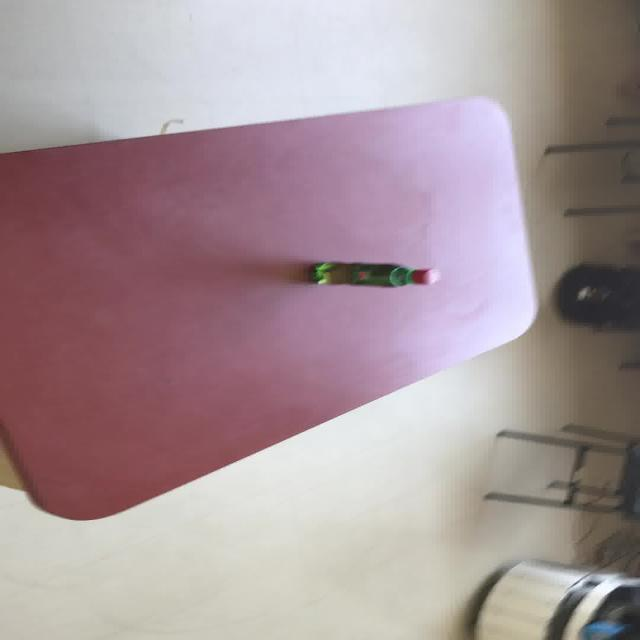guarana: (308, 260, 440, 287)
